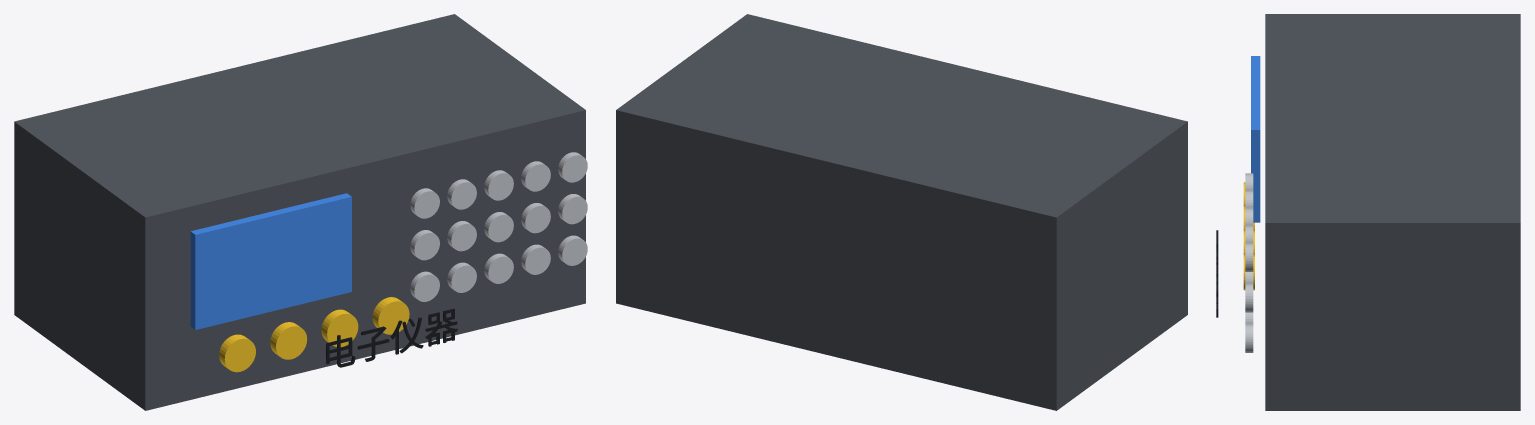
The model's file is asset_electronics.glb.
The picture shows the model from 3 angles, left to right: view 1: azimuth 30°, elevation 25°; view 2: azimuth 150°, elevation 25°; view 3: azimuth 270°, elevation 25°; orthographic projection. The views are drawn at different scales.
Parts seen in each view (by area): view 1: bench_body, screen, asset_label, bnc_0, bnc_1, bnc_3, bnc_2, knob_0_2, knob_1_4, knob_1_2, knob_1_3, knob_0_1 (+10 smaller); view 2: bench_body; view 3: bench_body, screen.
Boxes of the visible parts, box(x1,y1,x2,y2) form: bench_body: box(14, 14, 585, 410); screen: box(190, 193, 351, 329); asset_label: box(326, 308, 457, 367); bnc_0: box(219, 334, 255, 372); bnc_1: box(270, 322, 307, 359); bnc_3: box(372, 297, 409, 334); bnc_2: box(321, 309, 358, 346); knob_0_2: box(484, 253, 513, 283); knob_1_4: box(558, 194, 587, 224); knob_1_2: box(484, 212, 513, 242); knob_1_3: box(521, 203, 550, 233); knob_0_1: box(447, 262, 476, 292); bench_body: box(616, 14, 1187, 410); bench_body: box(1265, 14, 1520, 410); screen: box(1251, 56, 1260, 222).
Size of the model in its own units: 1.55 by 0.65 by 0.953.
